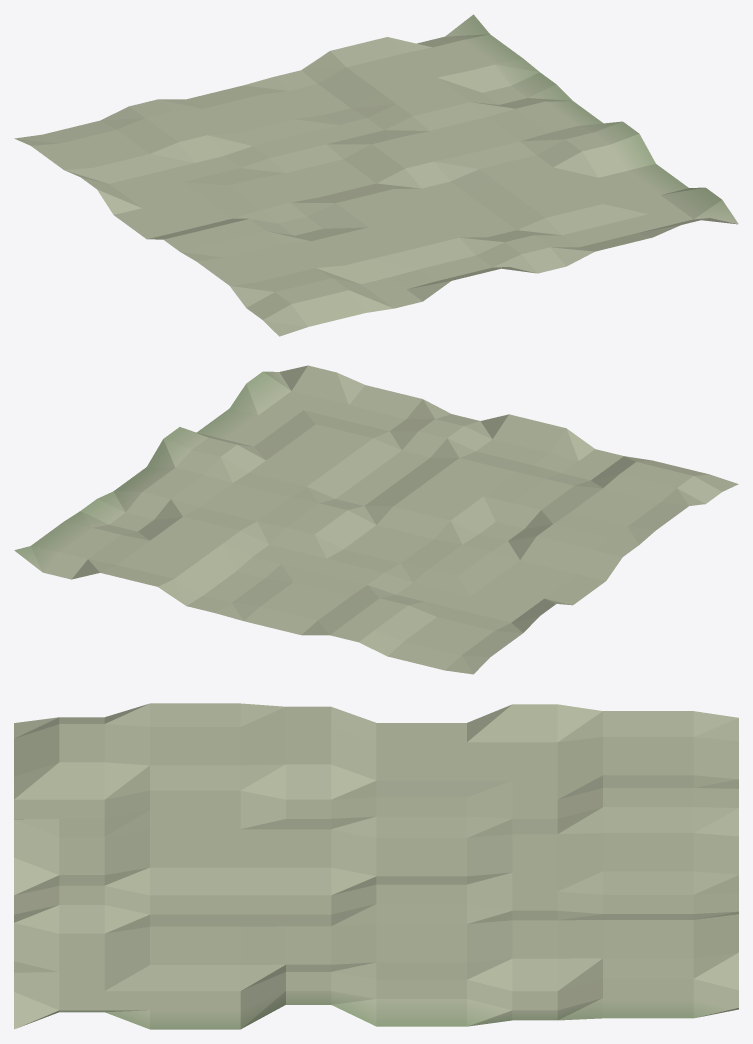
The picture shows the model from 3 angles, top to bottom: view 1: azimuth 30°, elevation 25°; view 2: azimuth 150°, elevation 25°; view 3: azimuth 270°, elevation 25°; orthographic projection. The views are drawn at different scales.
Size of the model in its own units: 32 by 1.2 by 32.
